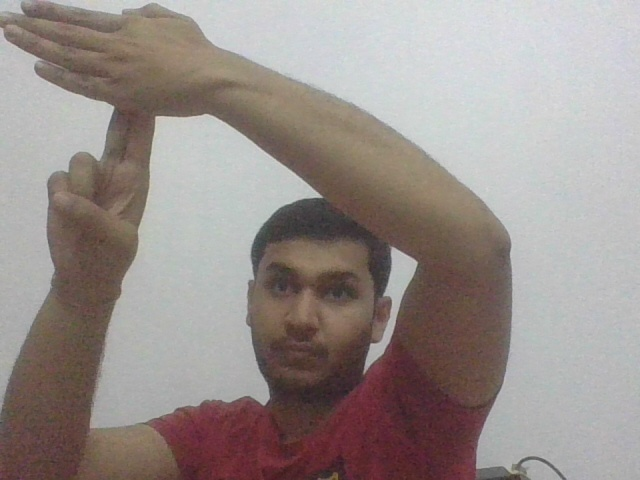N: (2, 1, 201, 163)
